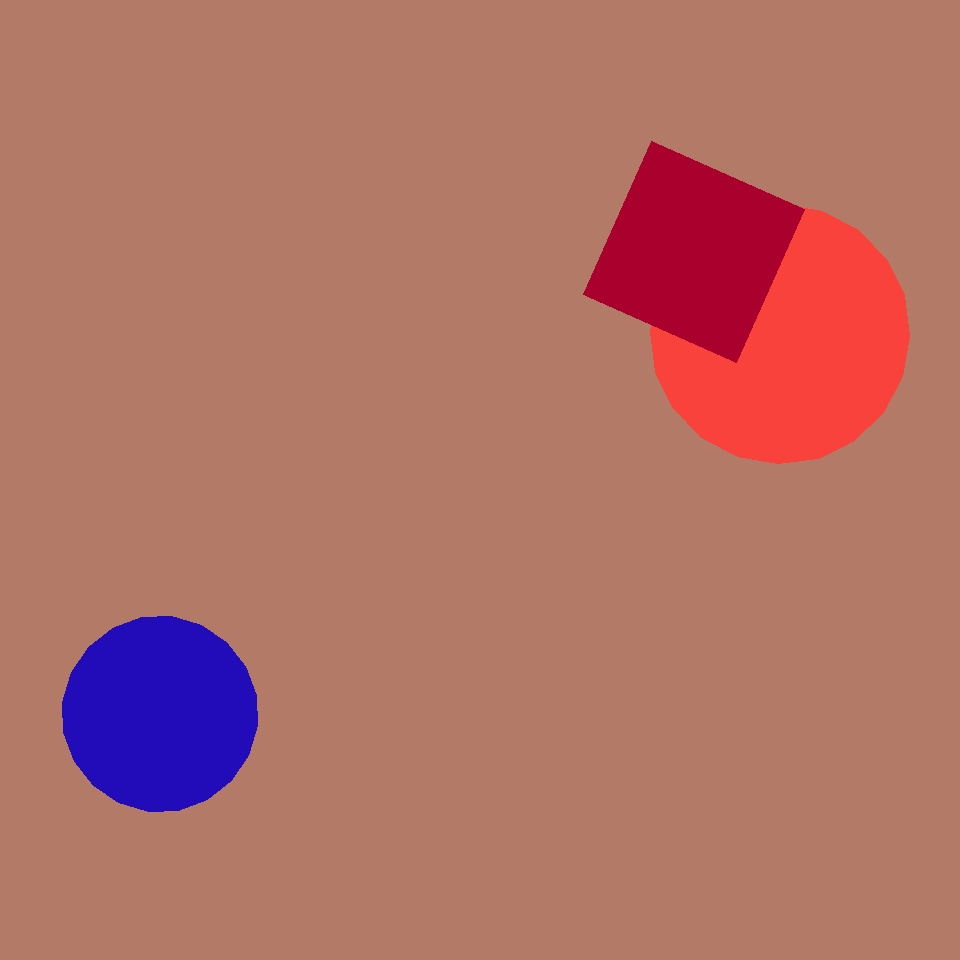circle: (672, 224, 852, 392)
square: (584, 142, 804, 362)
triangle: (97, 158, 433, 494), (650, 204, 910, 464), (504, 539, 725, 759), (62, 616, 257, 812)
